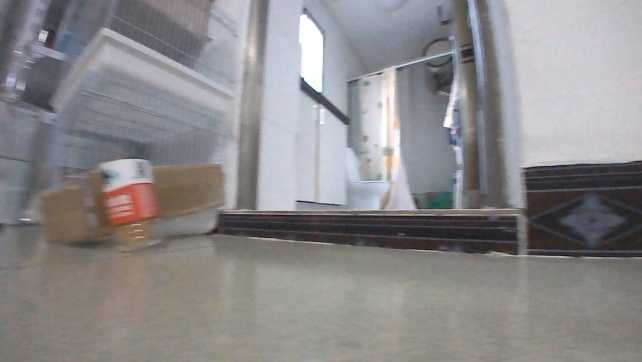bottle: (92, 150, 166, 255)
door_sill: (217, 203, 526, 258)
toilet: (342, 145, 389, 212)
